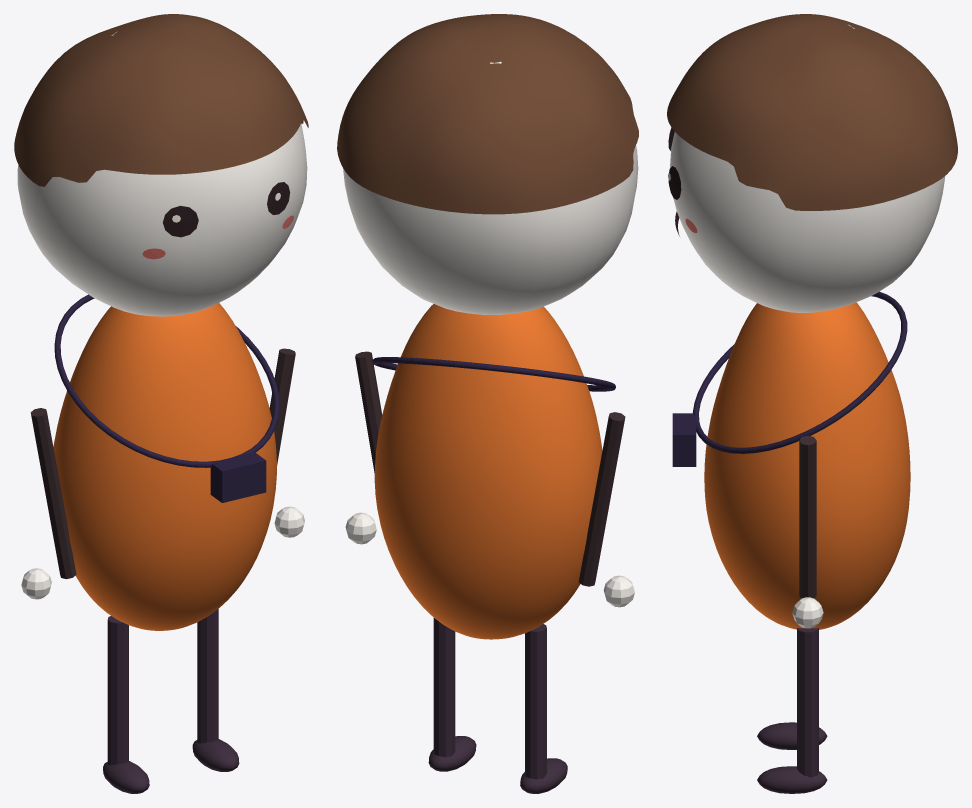
The model's file is turista_arancio.glb.
The picture shows the model from 3 angles, left to right: view 1: azimuth 30°, elevation 25°; view 2: azimuth 150°, elevation 25°; view 3: azimuth 270°, elevation 25°; orthographic projection.
Visible parts, largest first — view 1: corpo, capelli, testa, gamba_L, braccio_L, tracolla, gamba_R, macchina_foto, viso_ink, braccio_R, piede_L, piede_R (+2 smaller); view 2: corpo, capelli, testa, gamba_L, gamba_R, braccio_L, tracolla, braccio_R, piede_R, piede_L, mano_R, mano_L; view 3: corpo, capelli, testa, gamba_R, braccio_R, tracolla, piede_R, macchina_foto, piede_L, mano_R.
Boxes of the visible parts, x1=… form: corpo: x1=53, y1=303, x2=276, y2=630; capelli: x1=14, y1=14, x2=308, y2=186; testa: x1=17, y1=31, x2=307, y2=316; gamba_L: x1=107, y1=616, x2=128, y2=765; braccio_L: x1=30, y1=408, x2=76, y2=579; tracolla: x1=54, y1=294, x2=279, y2=467; gamba_R: x1=197, y1=609, x2=218, y2=743; macchina_foto: x1=210, y1=452, x2=266, y2=502; viso_ink: x1=162, y1=182, x2=290, y2=237; braccio_R: x1=269, y1=348, x2=295, y2=465; piede_L: x1=103, y1=761, x2=149, y2=793; piede_R: x1=192, y1=739, x2=239, y2=771; corpo: x1=374, y1=304, x2=602, y2=639; capelli: x1=337, y1=14, x2=638, y2=214; testa: x1=343, y1=61, x2=638, y2=314; gamba_L: x1=525, y1=624, x2=546, y2=792; gamba_R: x1=433, y1=618, x2=455, y2=771; braccio_L: x1=578, y1=412, x2=625, y2=586; tracolla: x1=372, y1=357, x2=615, y2=391; braccio_R: x1=355, y1=351, x2=382, y2=474; piede_R: x1=428, y1=736, x2=476, y2=771; piede_L: x1=520, y1=758, x2=567, y2=793; mano_R: x1=345, y1=512, x2=376, y2=544; mano_L: x1=603, y1=575, x2=634, y2=607; corpo: x1=704, y1=302, x2=910, y2=629; capelli: x1=667, y1=14, x2=957, y2=210; testa: x1=670, y1=24, x2=945, y2=312; gamba_R: x1=797, y1=628, x2=818, y2=791; braccio_R: x1=799, y1=435, x2=816, y2=598; tracolla: x1=692, y1=291, x2=907, y2=453; piede_R: x1=757, y1=766, x2=827, y2=793; macchina_foto: x1=672, y1=413, x2=696, y2=466; piede_L: x1=757, y1=722, x2=827, y2=749; mano_R: x1=792, y1=597, x2=823, y2=628.
Size of what is drawn, in the model's own units: 0.8231 by 2.09 by 0.7422.
